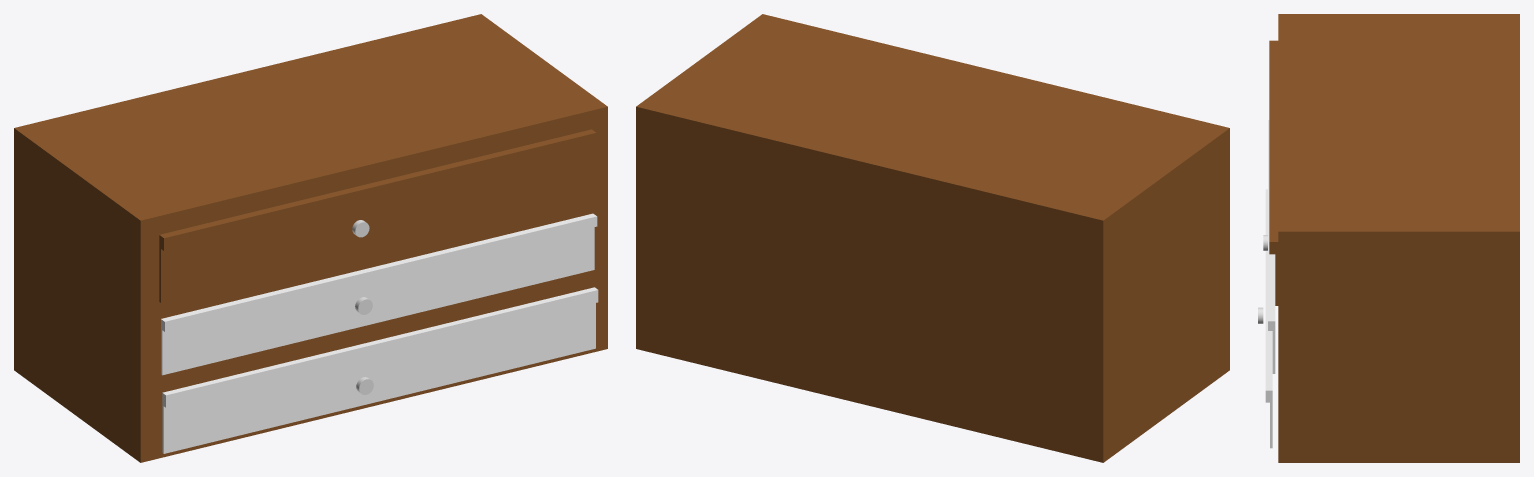
The picture shows the model from 3 angles, left to right: view 1: azimuth 30°, elevation 25°; view 2: azimuth 150°, elevation 25°; view 3: azimuth 270°, elevation 25°; orthographic projection. The views are drawn at different scales.
Parts seen in each view (by area): view 1: Mesh1 Model, Mesh4 Model, Mesh2 Model; view 2: Mesh1 Model; view 3: Mesh1 Model, Mesh4 Model, Mesh2 Model.
Part boxes in pixels (x1,y1,x2,y2): Mesh1 Model: [14, 14, 607, 462]; Mesh4 Model: [162, 287, 598, 453]; Mesh2 Model: [161, 213, 597, 375]; Mesh1 Model: [636, 14, 1229, 462]; Mesh1 Model: [1269, 14, 1519, 462]; Mesh4 Model: [1265, 189, 1272, 448]; Mesh2 Model: [1268, 120, 1275, 373].
Bounding box in the file's own units: 27.18 × 13.47 × 13.82.
